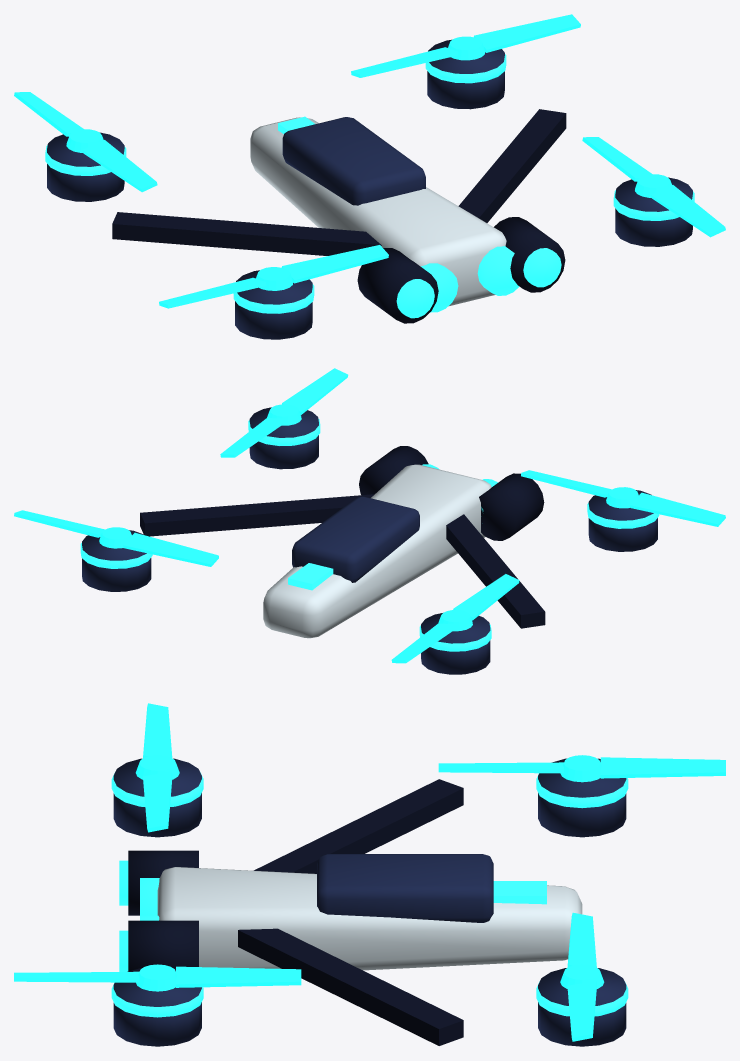
The model's file is Drone.fbx.
3 views of the same model, one above another, from view 1: azimuth 30°, elevation 25°; view 2: azimuth 150°, elevation 25°; view 3: azimuth 270°, elevation 25° (orthographic). The views are drawn at different scales.
Visible parts, largest first — view 1: Drone, Helix, Helix.003, Helix.001, Helix.002; view 2: Drone, Helix.003, Helix, Helix.001, Helix.002; view 3: Drone, Helix.001, Helix.002, Helix.003, Helix.
Boxes of the visible parts, <box> form: Drone: <box>45,39,694,339</box>; Helix: <box>351,14,580,77</box>; Helix.003: <box>159,245,388,308</box>; Helix.001: <box>14,92,157,192</box>; Helix.002: <box>582,137,725,237</box>; Drone: <box>80,407,659,674</box>; Helix.003: <box>521,470,725,526</box>; Helix: <box>14,510,218,566</box>; Helix.001: <box>391,574,519,663</box>; Helix.002: <box>220,368,348,457</box>; Drone: <box>111,758,628,1046</box>; Helix.001: <box>438,755,725,782</box>; Helix.002: <box>14,964,301,991</box>; Helix.003: <box>135,703,179,832</box>; Helix: <box>560,912,604,1041</box>.
Size of the model in its own units: 4.25 by 0.5489 by 3.86.
